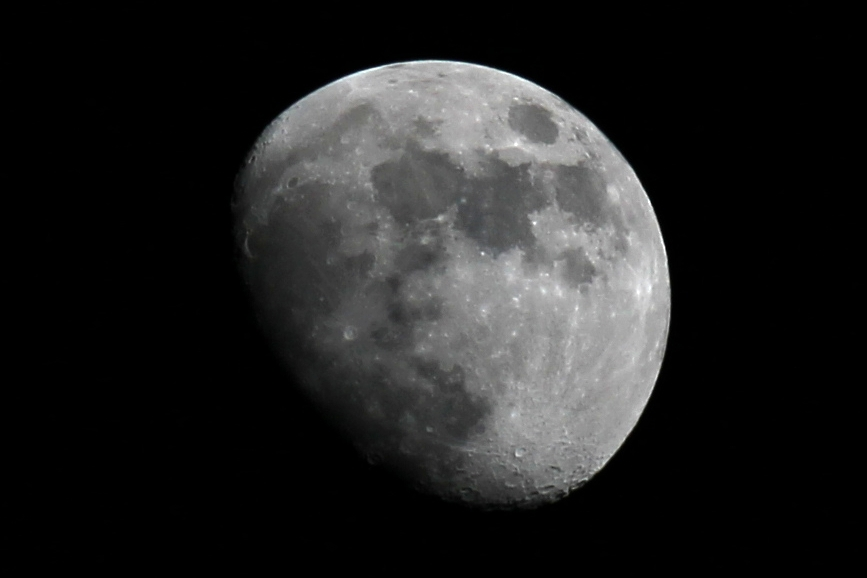crater: (495, 95, 565, 150), (336, 313, 372, 366), (507, 435, 543, 476), (279, 167, 312, 194)
